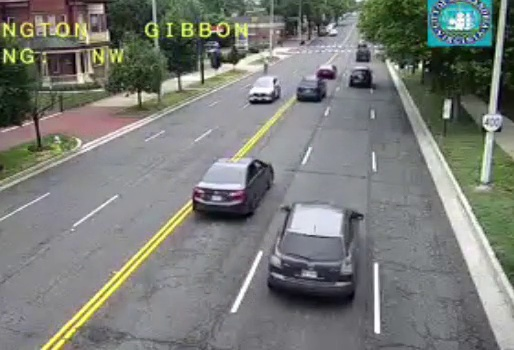car: (268, 202, 356, 297), (192, 158, 273, 213), (296, 77, 324, 98), (348, 69, 372, 87), (315, 65, 335, 79)
